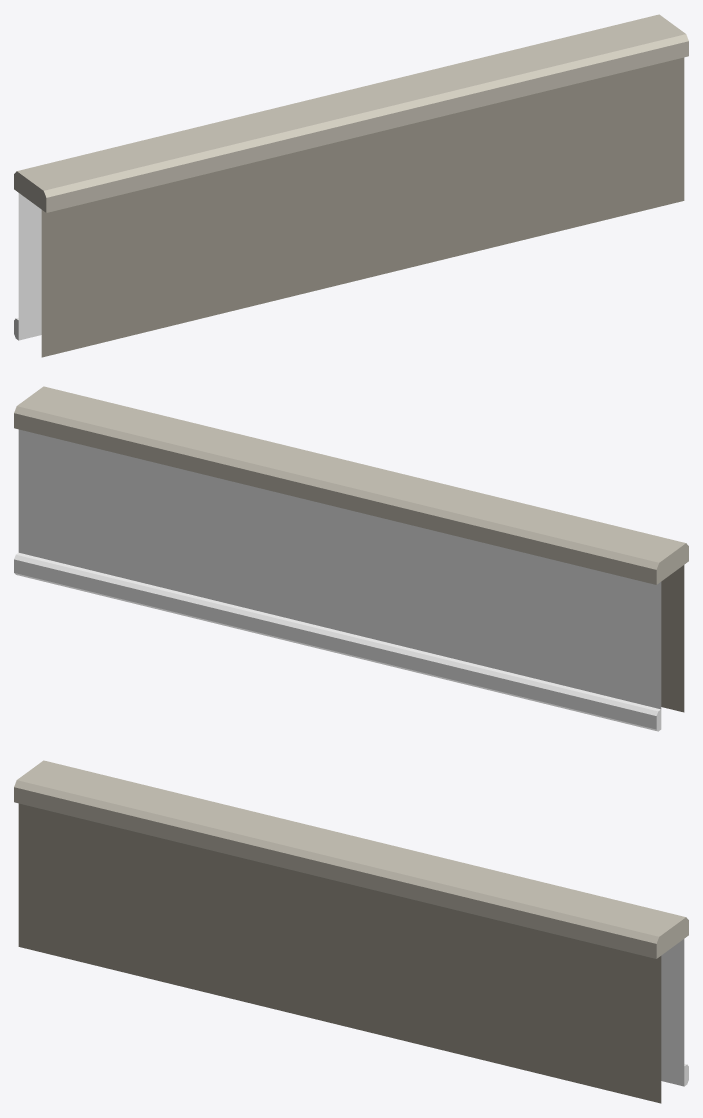
File: off_parapet.glb
3 views of the same model, one above another, from view 1: azimuth 30°, elevation 25°; view 2: azimuth 150°, elevation 25°; view 3: azimuth 330°, elevation 25° (orthographic).
Parts seen in each view (by area): view 1: off_parapet__mesh; view 2: off_parapet__mesh; view 3: off_parapet__mesh.
Part boxes in pixels (box(x1,y1,x2,y2)): off_parapet__mesh: box(14, 14, 688, 357); off_parapet__mesh: box(14, 386, 688, 731); off_parapet__mesh: box(14, 760, 688, 1103).
Size of what is drawn, in the model's own units: 4 by 1 by 0.35.
1 material, 1 textured.
